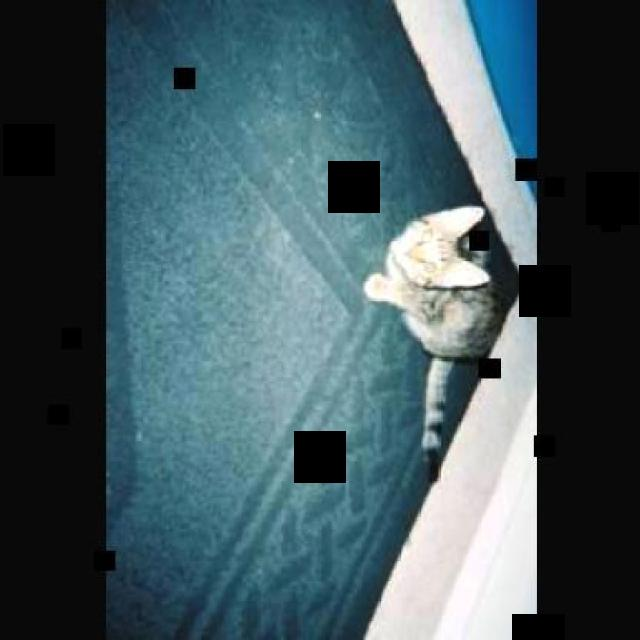unauthorized: (362, 203, 504, 466)
